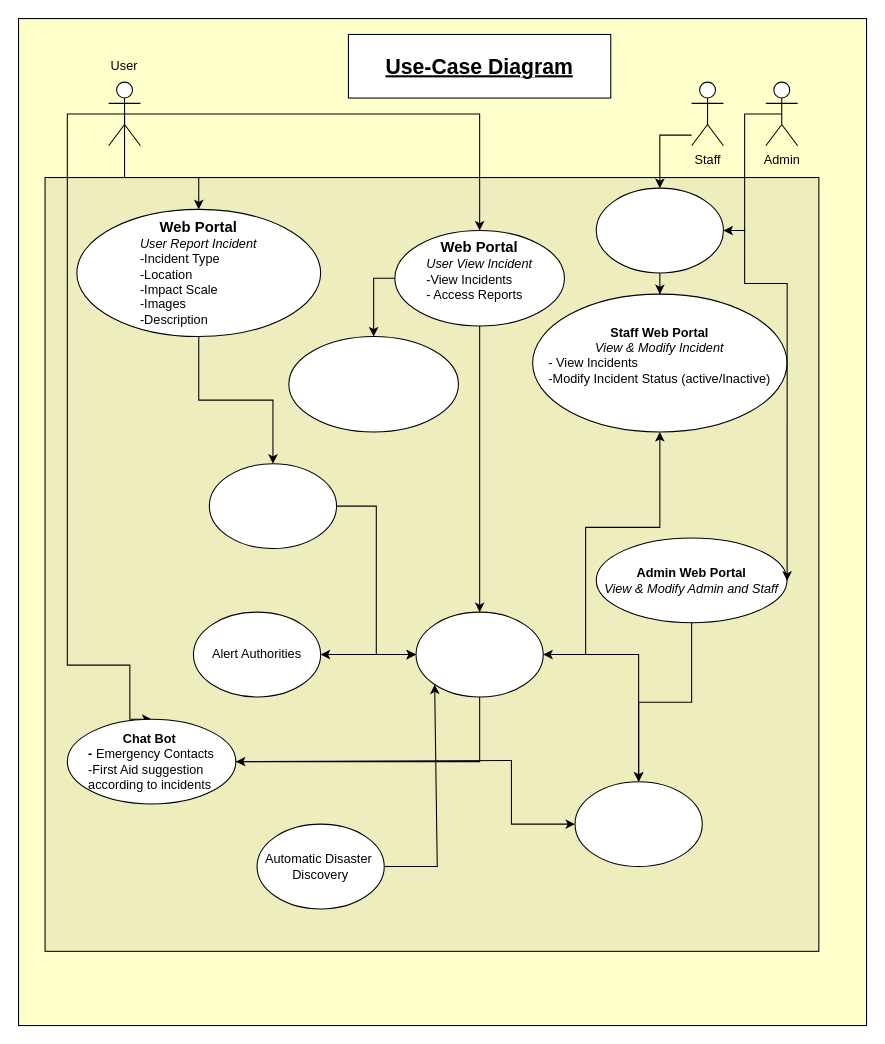
Some shapes in this 885 by 1044 pixel diagram are drawn without their labels. Here are the shapes that lost their labels. From the top down, the centre of each, then its label:
(659,230): Login
(373,383): Web Portal Navigation - Get alternate route to nearest resources
(272,506): Validate Input
(479,654): Update or Insert Into Database
(638,824): Repository
